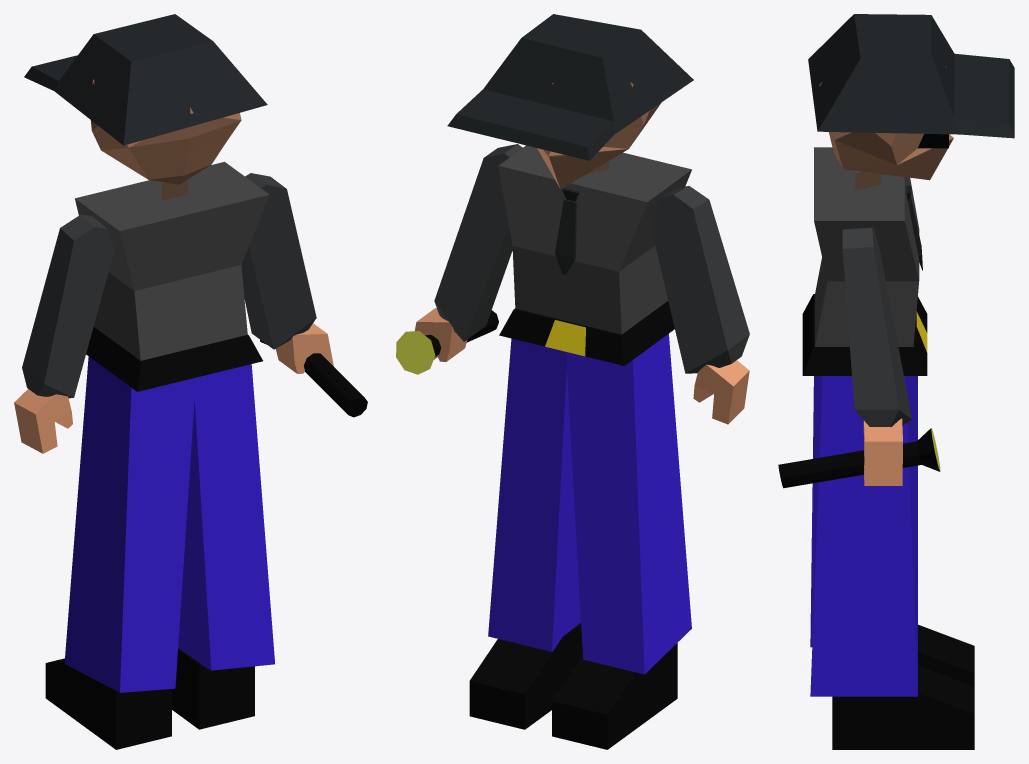
The model's file is SecurityGuard.glb.
3 renders of one model, left to right at view 1: azimuth 30°, elevation 25°; view 2: azimuth 150°, elevation 25°; view 3: azimuth 270°, elevation 25°, orthographic.
Parts seen in each view (by area): view 1: upper body, Chest, Arms, hat, shose, Plane, belt, Hand, light; view 2: upper body, Chest, hat, Arms, shose, belt, Hand, Plane, light, Tie; view 3: upper body, hat, Chest, shose, Arms, Plane, belt, light, Hand, neck, glasses, Tie.
Part boxes in pixels (box(x1,y1,x2,y2)): upper body: box(64, 356, 274, 692); Chest: box(75, 161, 269, 360); Arms: box(22, 173, 316, 398); hat: box(24, 14, 267, 145); shose: box(45, 648, 254, 749); Plane: box(90, 79, 241, 184); belt: box(86, 327, 262, 391); Hand: box(14, 323, 333, 453); light: box(260, 340, 367, 417); upper body: box(488, 334, 691, 674); Chest: box(498, 145, 691, 334); hat: box(447, 14, 693, 160); Arms: box(434, 144, 749, 373); shose: box(469, 623, 677, 749); belt: box(499, 301, 674, 365); Hand: box(415, 308, 749, 424); Plane: box(537, 82, 661, 189); light: box(396, 310, 498, 374); Tie: box(555, 188, 579, 275); upper body: box(810, 376, 917, 696); hat: box(808, 14, 1014, 138); Chest: box(814, 147, 919, 346); shose: box(832, 624, 974, 749); Arms: box(842, 227, 912, 426); Plane: box(819, 66, 953, 180); belt: box(802, 294, 927, 375); light: box(778, 428, 940, 488); Hand: box(863, 418, 902, 485); neck: box(855, 170, 881, 190); glasses: box(918, 134, 948, 148); Tie: box(906, 185, 922, 270).
Size of the model in its own units: 4.69 by 9.62 by 3.03.
